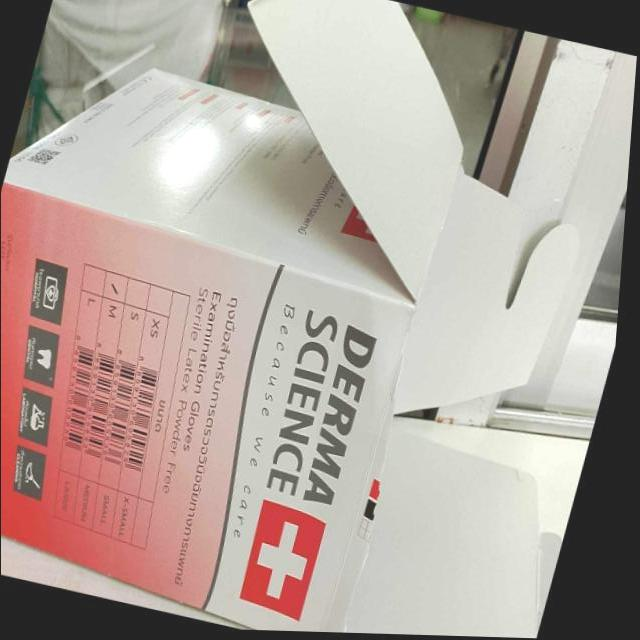General: (3, 2, 634, 636)
